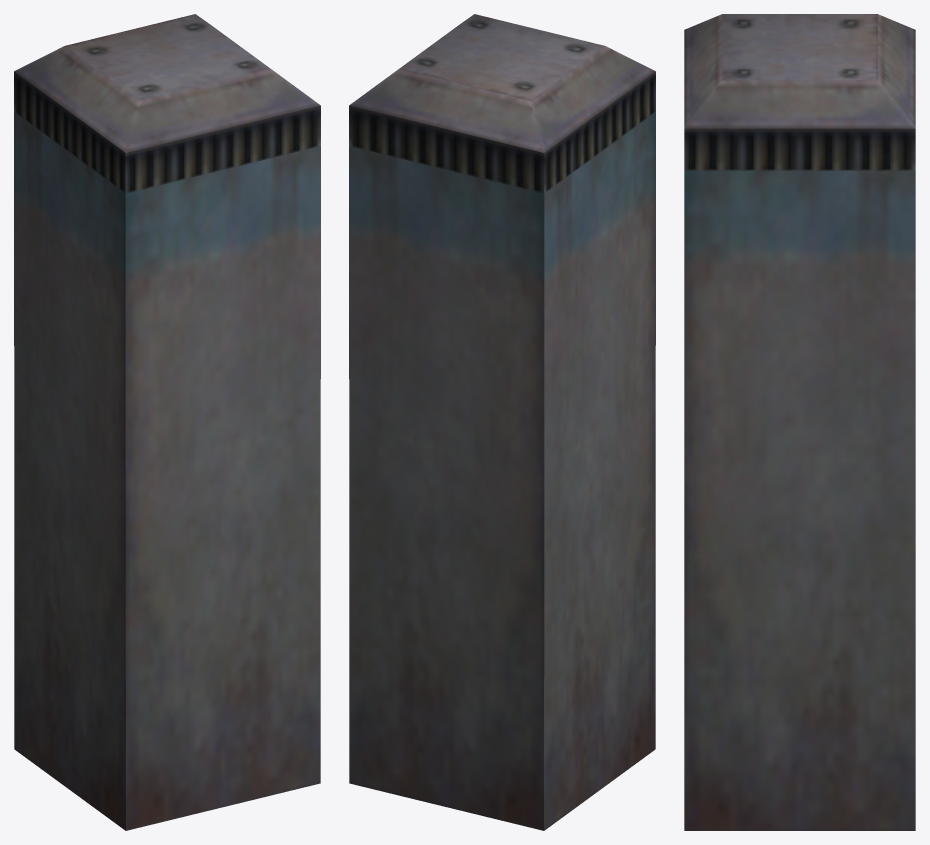
The model's file is zc_lekesigang_qiaozhu01.FBX.
The picture shows the model from 3 angles, left to right: view 1: azimuth 30°, elevation 25°; view 2: azimuth 150°, elevation 25°; view 3: azimuth 270°, elevation 25°; orthographic projection. The views are drawn at different scales.
Visible parts, largest first — view 1: zc_lekesigang_qiaozhu01; view 2: zc_lekesigang_qiaozhu01; view 3: zc_lekesigang_qiaozhu01.
Boxes of the visible parts, x1,y1,x2,y2 form: zc_lekesigang_qiaozhu01: [14, 14, 320, 830]; zc_lekesigang_qiaozhu01: [349, 14, 655, 830]; zc_lekesigang_qiaozhu01: [684, 14, 915, 830].
Bounding box in the file's own units: 201 × 697 × 199.
